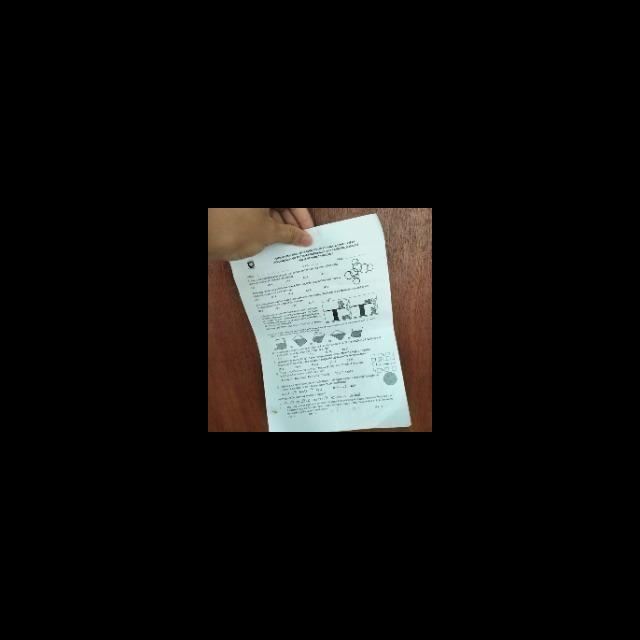paper: (223, 218, 415, 432)
